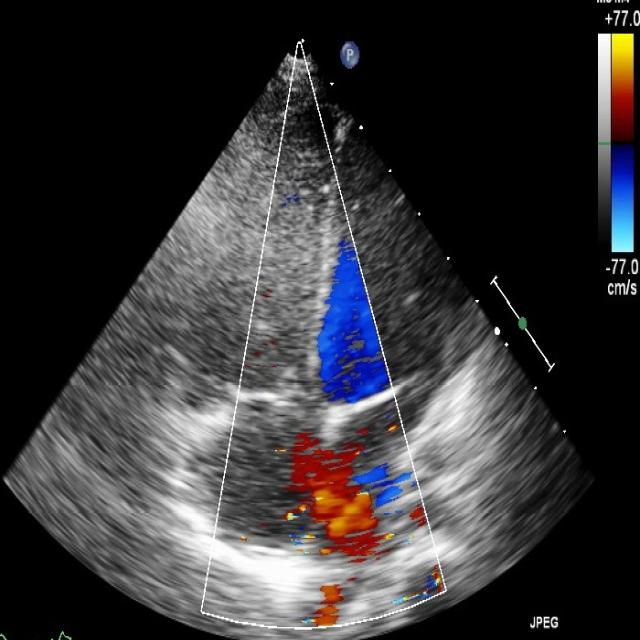ASDType2: (287, 416, 409, 560)
